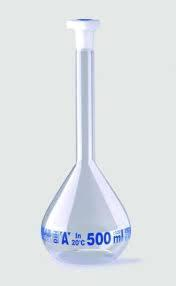Volumetric flask: (30, 16, 135, 266)
